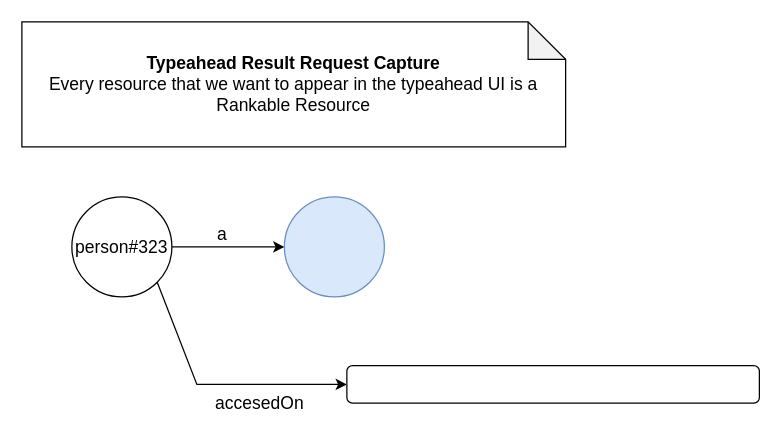
Image size: 781x444. Some labels were removed from this diagram. The shapes that lost their labels are listed below. From the top down, each one's centre as x and y in pixels, then its label:
point 333,246: Rankable Resource
point 552,383: "2022-10-05T13:06:56.964-04:00"^^xsd:dateTime
